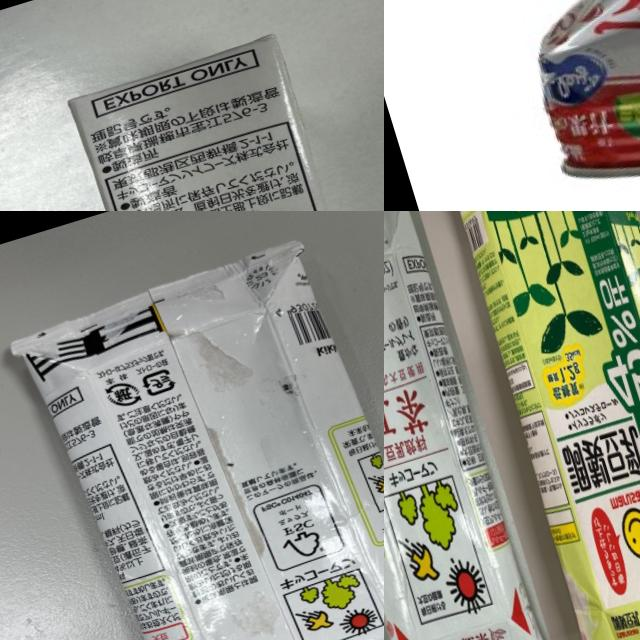Aluminium Foil: (20, 232, 384, 640), (426, 211, 640, 640), (384, 211, 560, 640), (56, 25, 384, 211)
Can: (465, 0, 640, 211)
